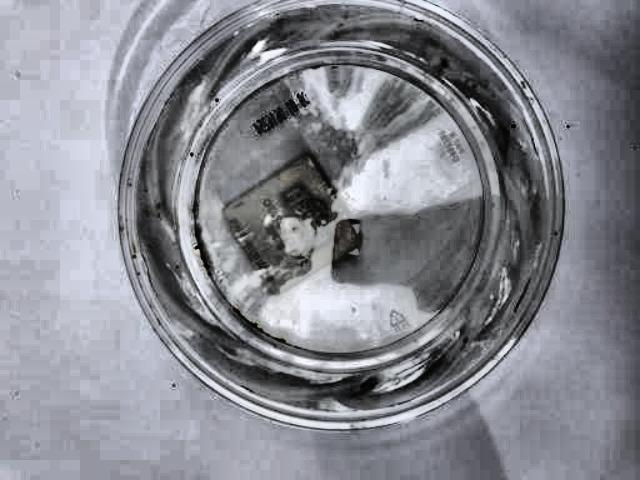Plastic: (83, 0, 589, 446)
